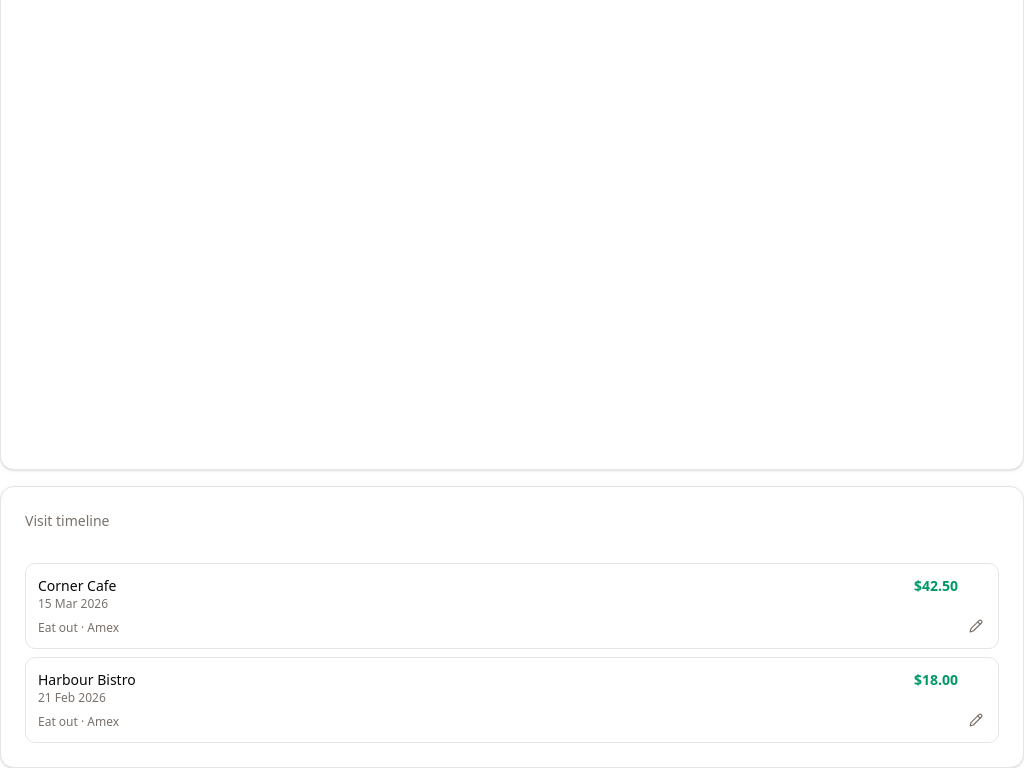
Scenario: RelationshipMapPage › adding and editing › lets admin delete after confirming
This screenshot has width=1024, height=768.
(page scrolled)
Click the button named "edit corner cafe". click: (976, 626)
box: [954,604,998,648]
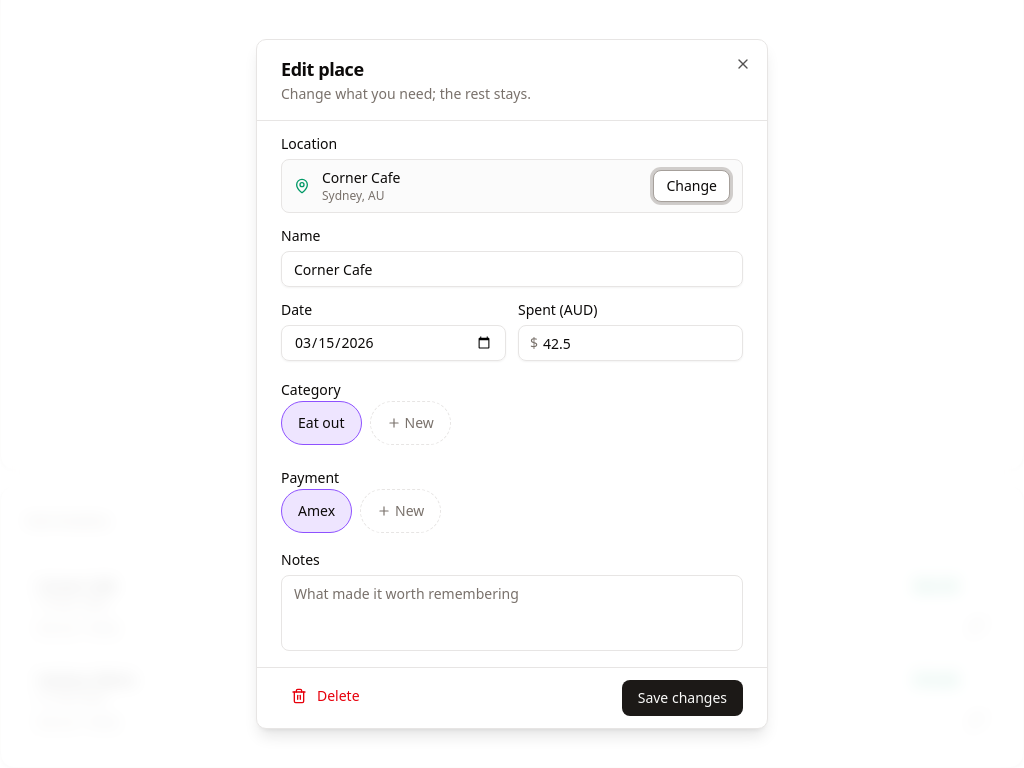
Click the button "Delete". click: (325, 696)
box: [281,680,370,712]
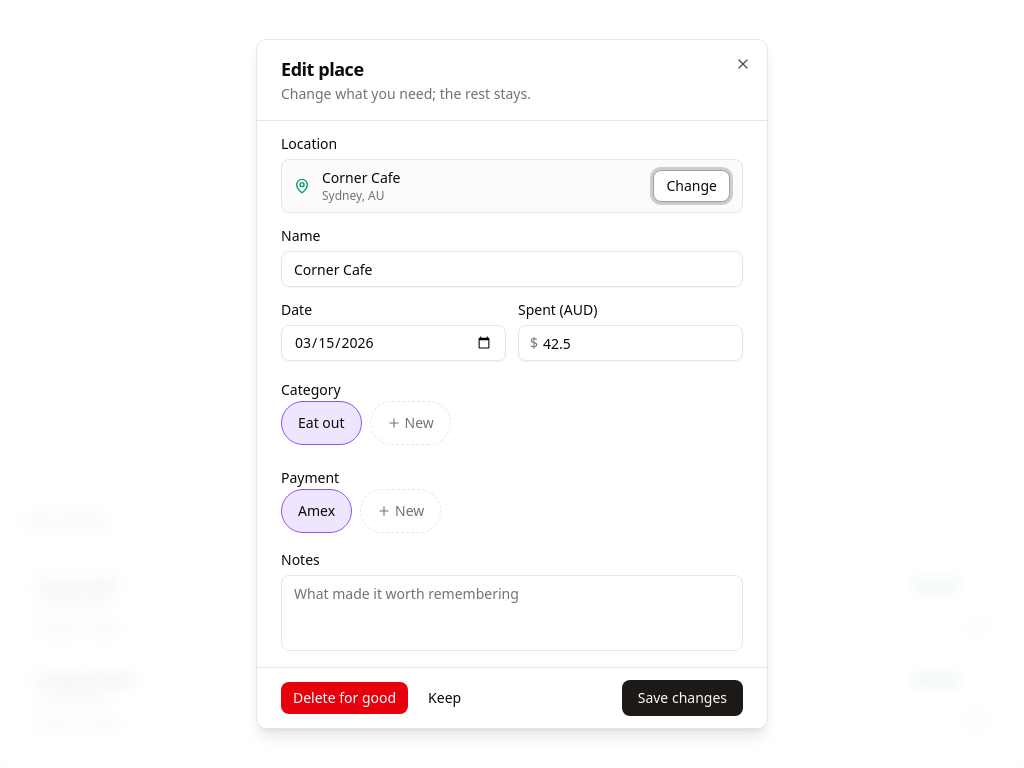
Click the button "Delete for good". click: (345, 698)
box: [281,682,408,714]
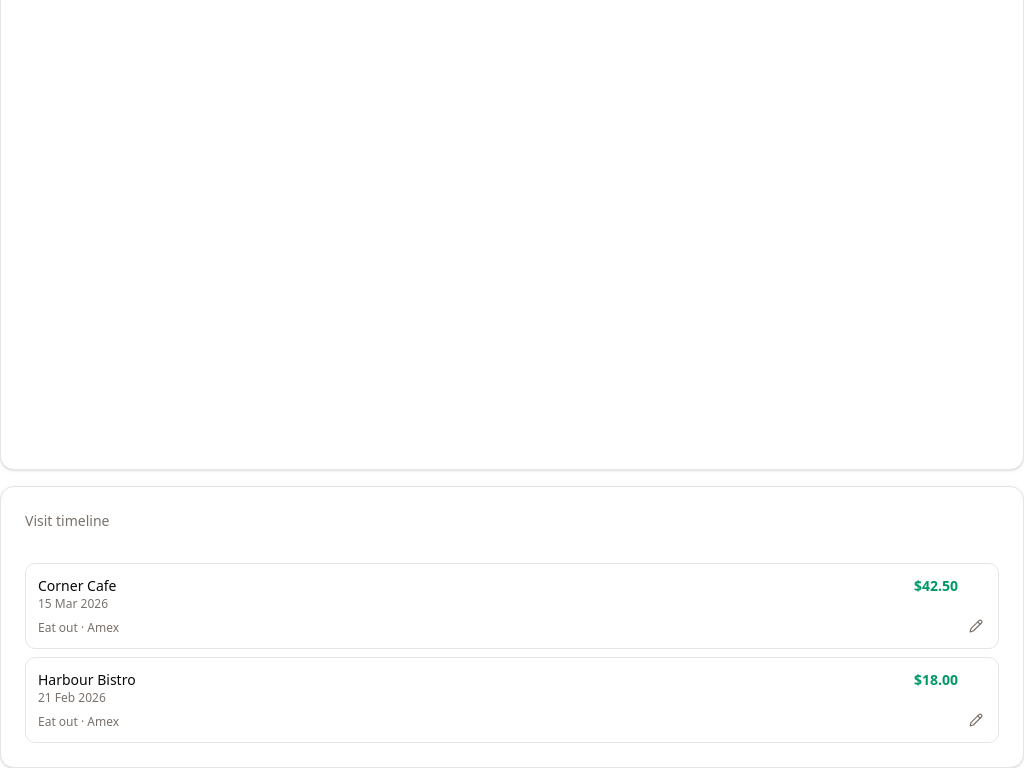
expect the label labelled "Name" is gone: met
